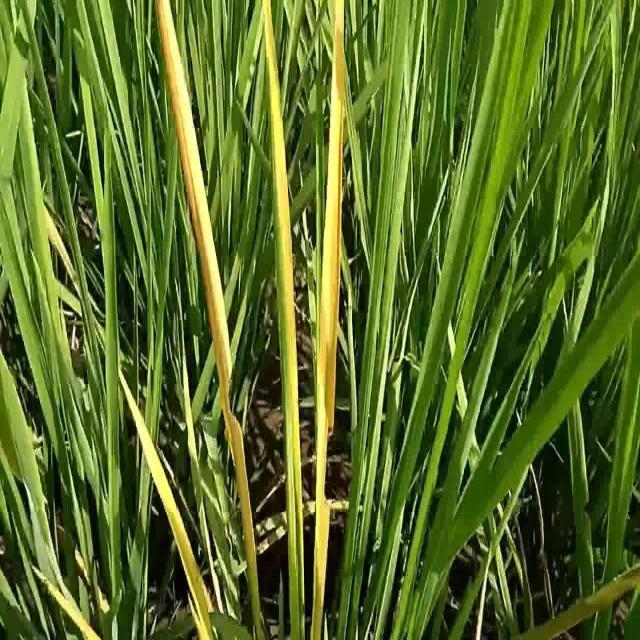Rice Tungro: (153, 3, 269, 609), (259, 2, 308, 640), (113, 356, 219, 640), (309, 2, 351, 640), (25, 555, 102, 640)
